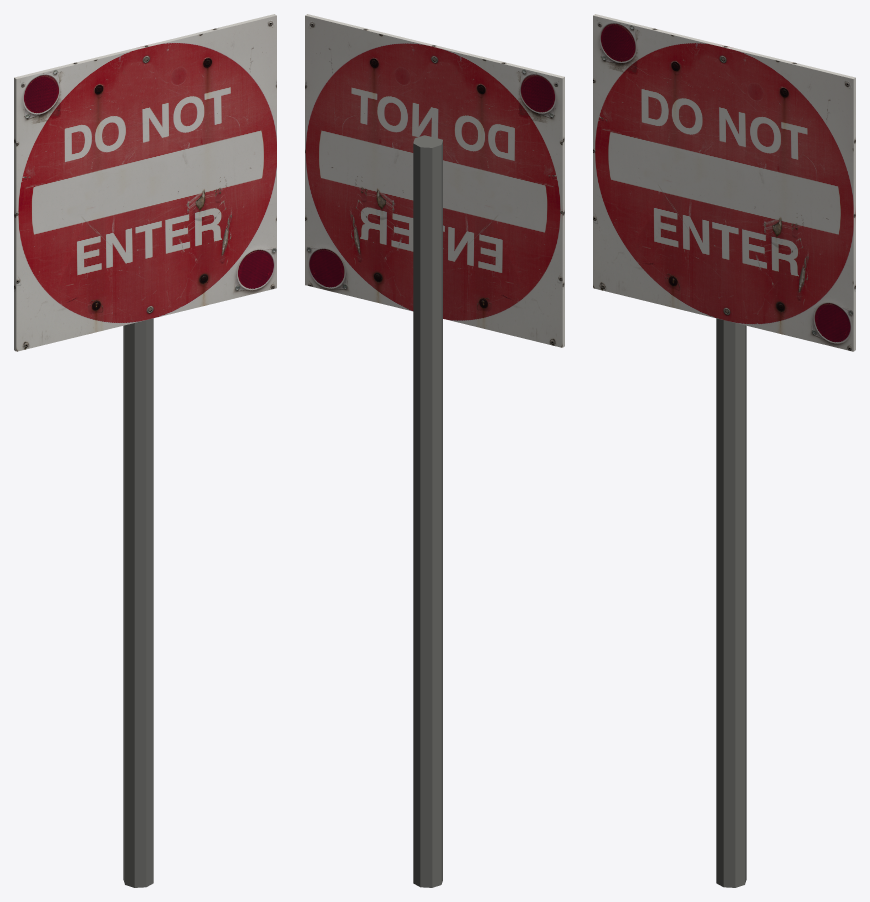
File: trafficsign2.fbx
3 renders of one model, left to right at view 1: azimuth 30°, elevation 25°; view 2: azimuth 150°, elevation 25°; view 3: azimuth 330°, elevation 25°, orthographic.
Parts seen in each view (by area): view 1: sign; view 2: sign; view 3: sign.
Part boxes in pixels (<box>): sign: <box>14,14,276,887</box>; sign: <box>305,14,564,887</box>; sign: <box>593,14,855,887</box>.
Size of the model in its own units: 120 by 370 by 12.64.
Materials: 2 (2 with a texture image).
